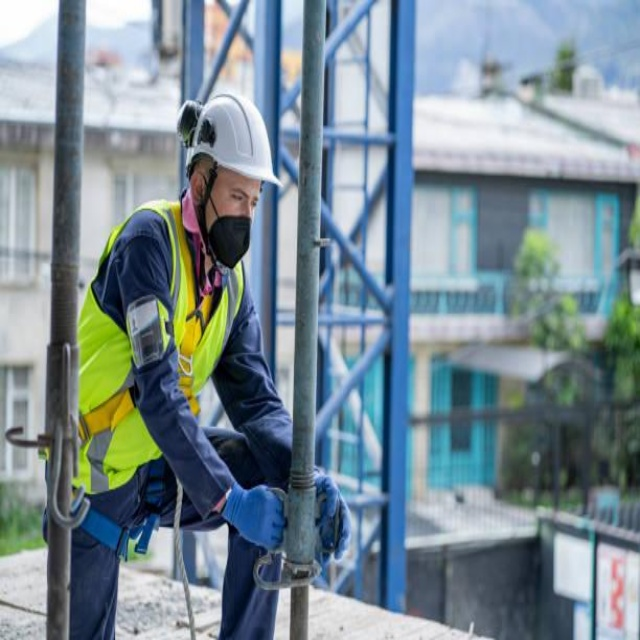Arnes_seguridad: (77, 197, 243, 567)
